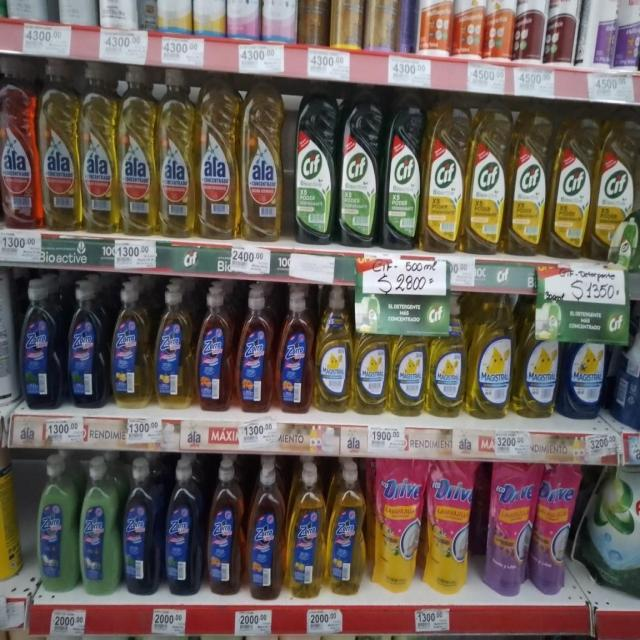ala_conc_amarillo: (241, 80, 285, 242), (40, 57, 79, 233), (198, 75, 239, 240), (119, 64, 157, 238), (157, 66, 195, 239), (81, 60, 117, 236)
ala_conc_rojo: (0, 56, 38, 231)
cif_conc_bot_amarilla: (424, 100, 466, 254), (594, 114, 636, 267), (467, 104, 507, 255), (551, 114, 592, 259), (509, 109, 548, 258)
cif_conc_botella_verde: (293, 90, 336, 246), (339, 91, 380, 248), (382, 93, 422, 251)
drive: (372, 457, 423, 593), (426, 459, 475, 594), (535, 464, 577, 596)
magistral_con_amarillo: (469, 291, 514, 419), (516, 291, 560, 419), (316, 284, 352, 414), (429, 296, 467, 418), (353, 290, 389, 414), (391, 304, 426, 416)
magistral_con_azul: (563, 303, 607, 420)
zorro: (79, 455, 119, 597), (36, 453, 76, 594), (246, 458, 285, 602), (328, 457, 367, 597), (287, 459, 325, 600), (66, 279, 107, 409), (164, 456, 202, 596), (122, 456, 160, 596), (110, 279, 150, 409), (206, 458, 243, 598), (236, 285, 274, 414), (154, 281, 192, 409), (196, 283, 233, 413), (276, 286, 313, 414)
